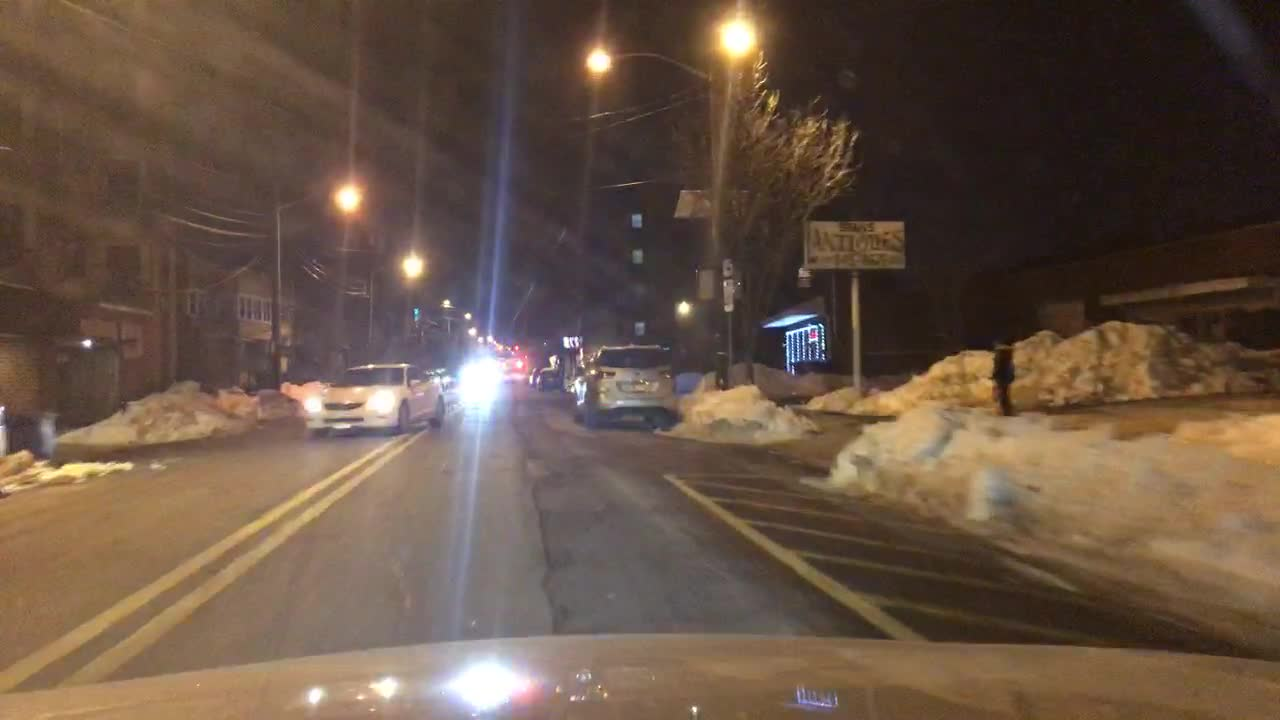car: (311, 358, 446, 438), (568, 344, 681, 432), (462, 355, 502, 391), (536, 368, 563, 390), (527, 365, 538, 388)
person: (989, 337, 1017, 416)
traffic sign: (722, 281, 736, 318), (721, 258, 737, 276)
